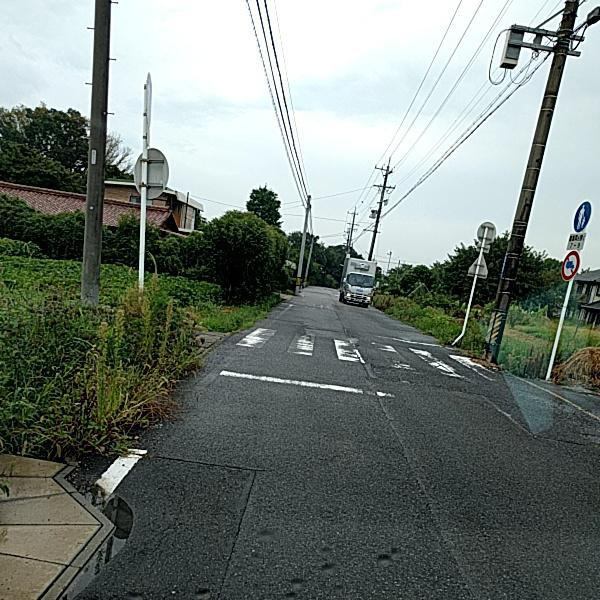D43: (235, 313, 505, 383)
